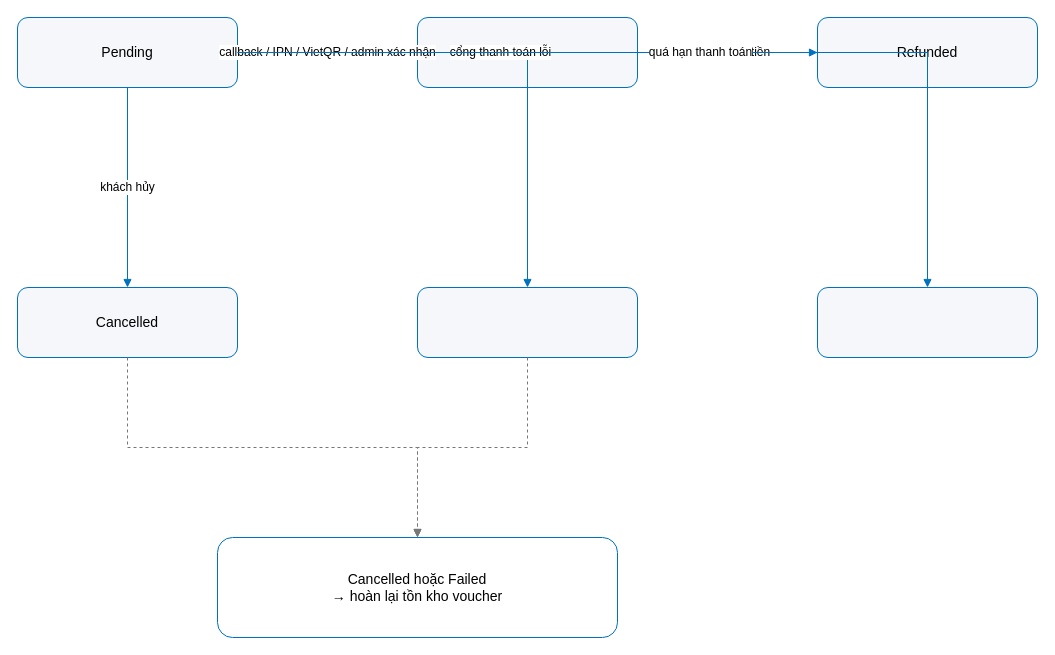
Some shapes in this 1055 by 655 pixel diagram are drawn without their labels. The centre of each missing label's shape, as x and y in pixels:
"Expired" goes at (927,322).
"Failed" goes at (527,322).
